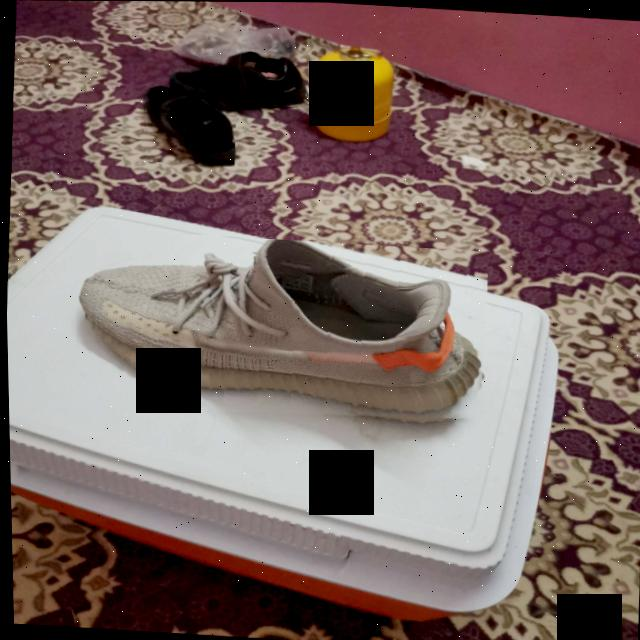shoe: (69, 227, 491, 431), (164, 45, 310, 110), (139, 82, 238, 166)
